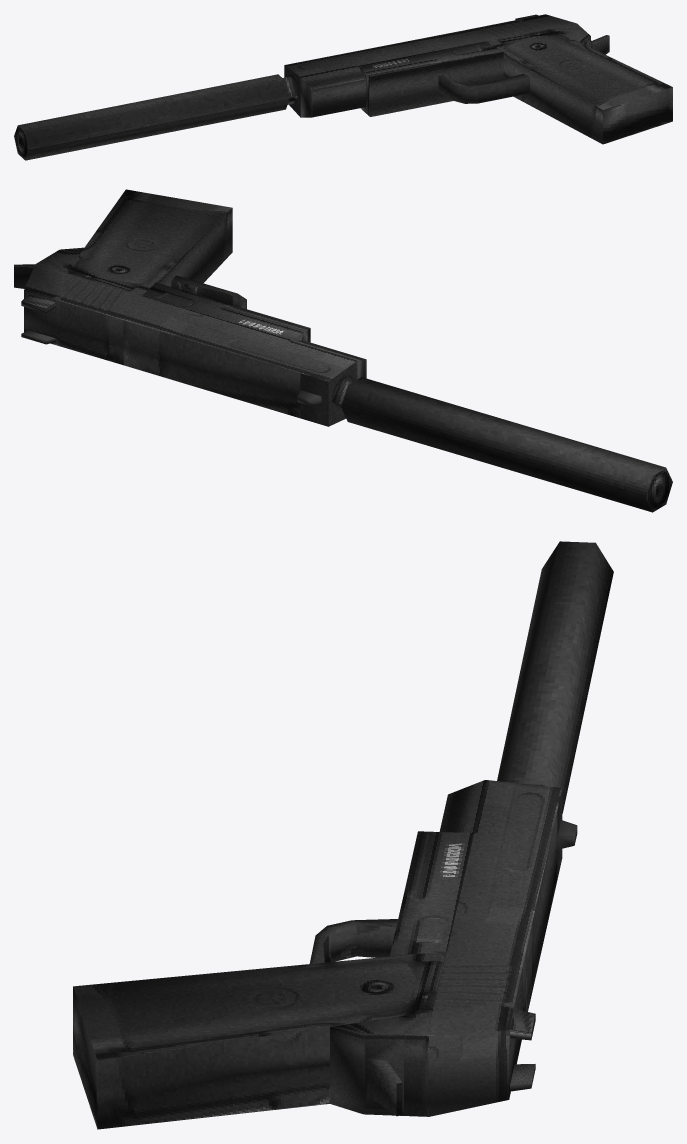
The model's file is 1911_silenced.glb.
3 renders of one model, top to bottom at view 1: azimuth 30°, elevation 25°; view 2: azimuth 150°, elevation 25°; view 3: azimuth 270°, elevation 25°, orthographic. The views are drawn at different scales.
Visible parts, largest first — view 1: 1911.Base_0; view 2: 1911.Base_0; view 3: 1911.Base_0.
Part boxes in pixels (x1,y1,x2,y2): 1911.Base_0: (14,14,672,160); 1911.Base_0: (14,189,672,512); 1911.Base_0: (73,541,613,1129).
Bounding box in the file's own units: 3.94 × 0.28 × 1.69.
Materials: 1 (1 with a texture image).
